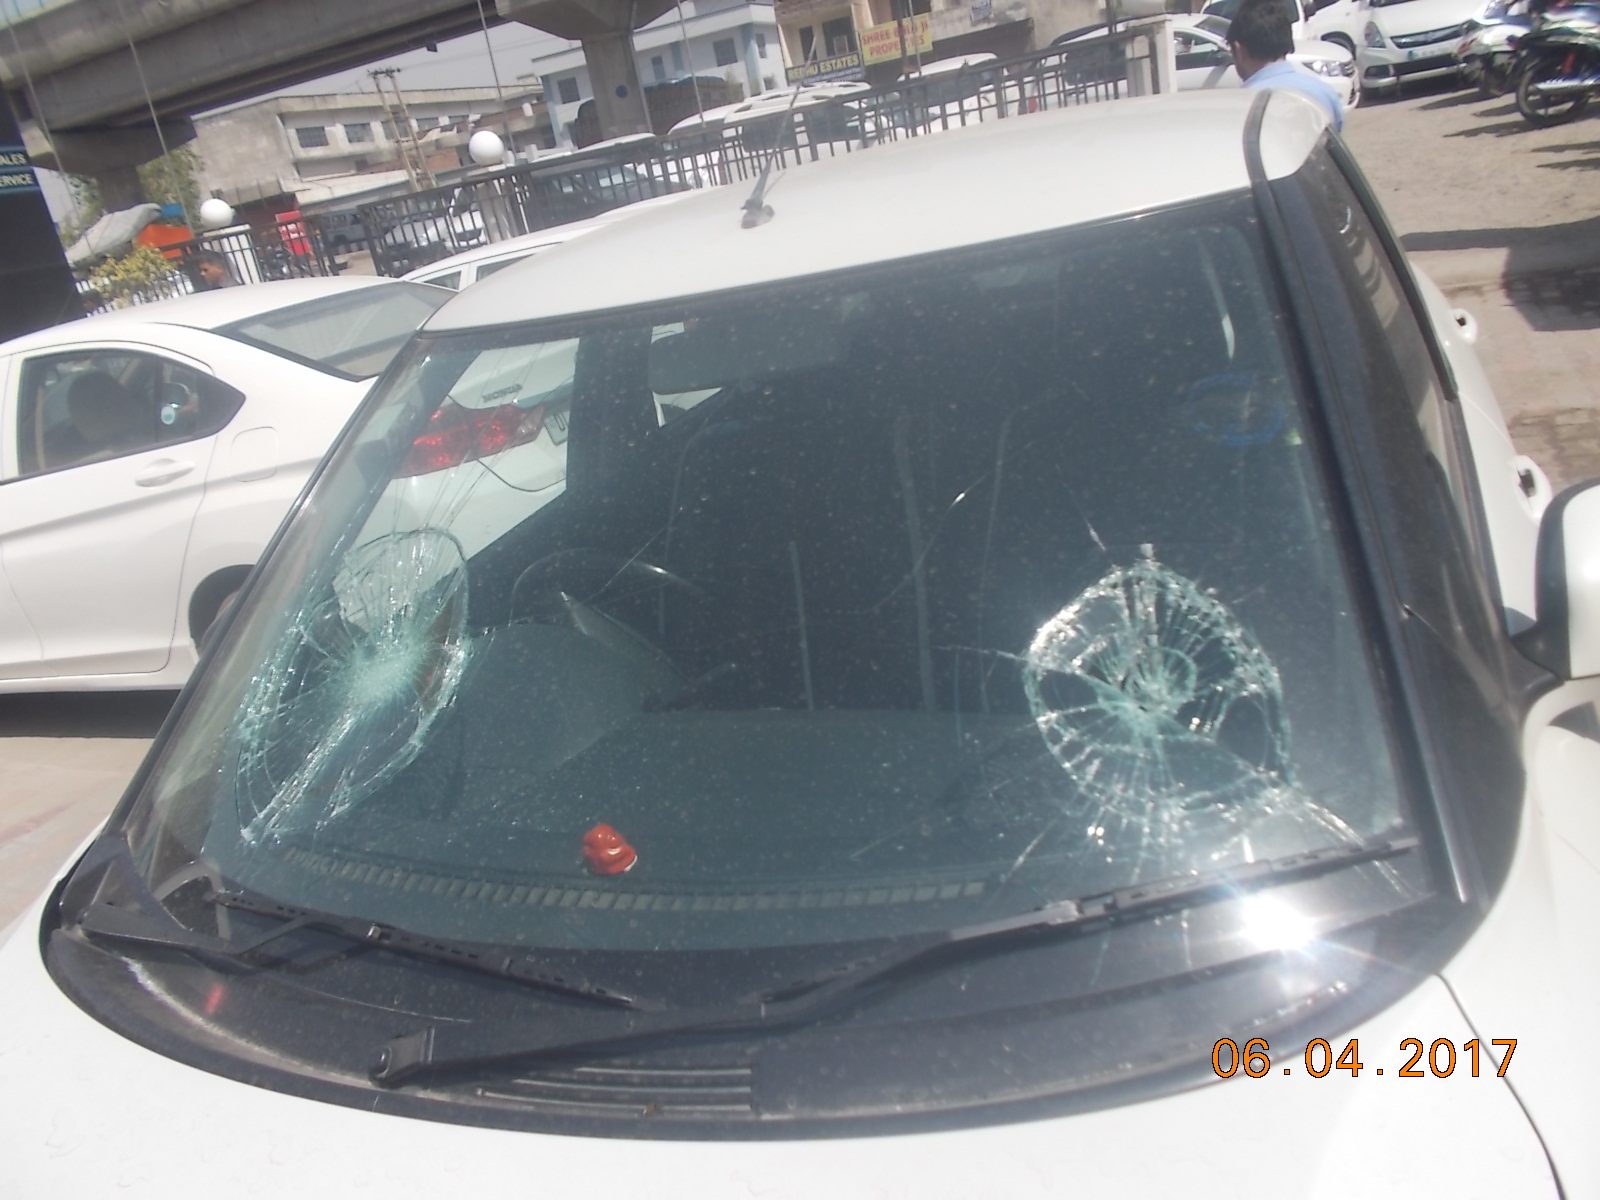Shatter: (999, 556, 1338, 866), (270, 543, 514, 808)
